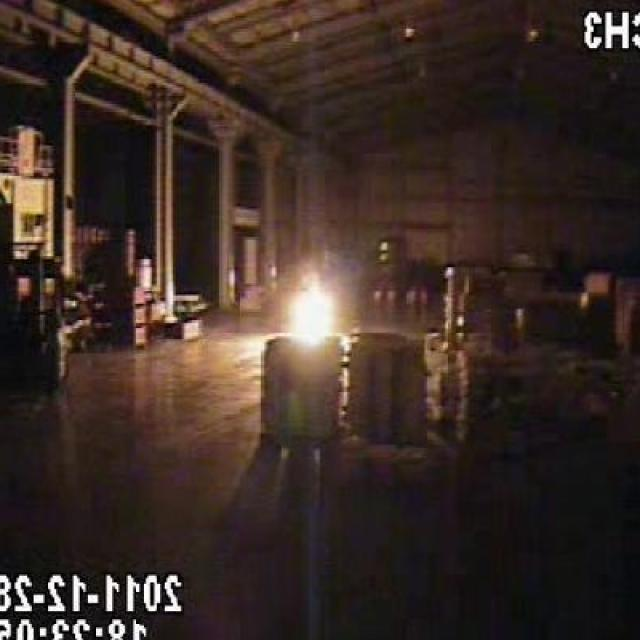smoke: (290, 257, 340, 348)
